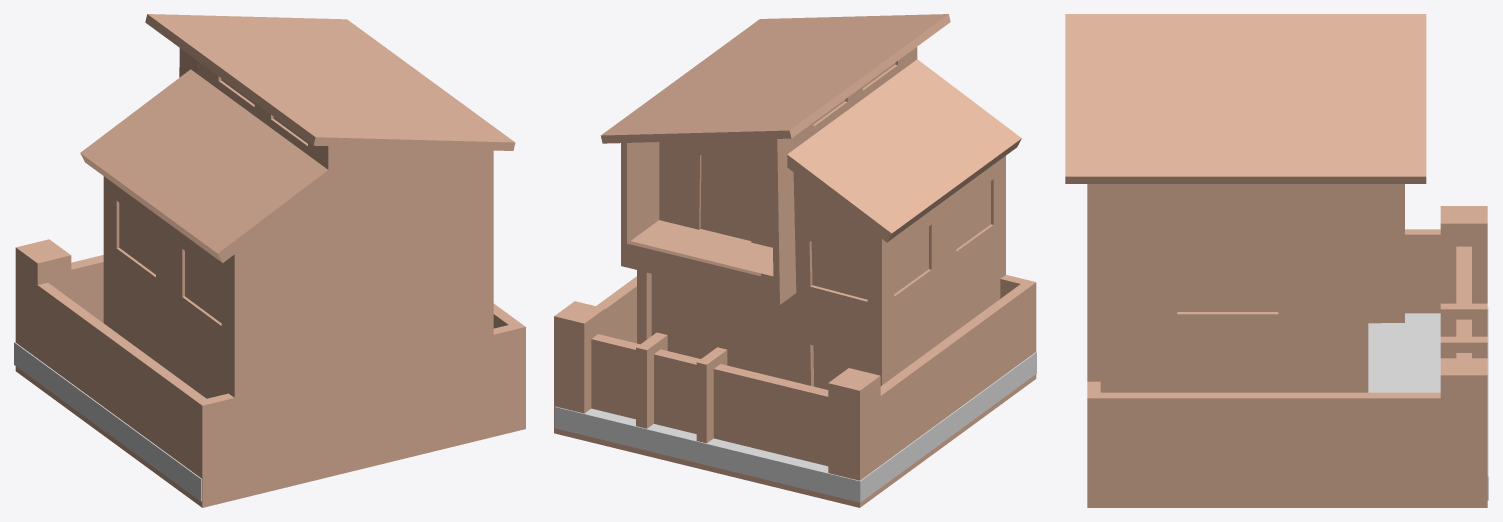
The model's file is House_Models_2_V3.fbx.
3 renders of one model, left to right at view 1: azimuth 30°, elevation 25°; view 2: azimuth 150°, elevation 25°; view 3: azimuth 270°, elevation 25°, orthographic. The views are drawn at different scales.
Parts seen in each view (by area): view 1: Ground & Gate, Floor; view 2: Ground & Gate, Floor; view 3: Ground & Gate, Floor.
Boxes of the visible parts, bbox=[...] form: Ground & Gate: bbox=[15, 14, 525, 507]; Floor: bbox=[14, 342, 201, 501]; Ground & Gate: bbox=[554, 14, 1036, 507]; Floor: bbox=[554, 352, 1036, 502]; Ground & Gate: bbox=[1065, 14, 1487, 507]; Floor: bbox=[1368, 307, 1488, 500].
Bounding box in the file's own units: 30.1 × 31.31 × 31.75.
